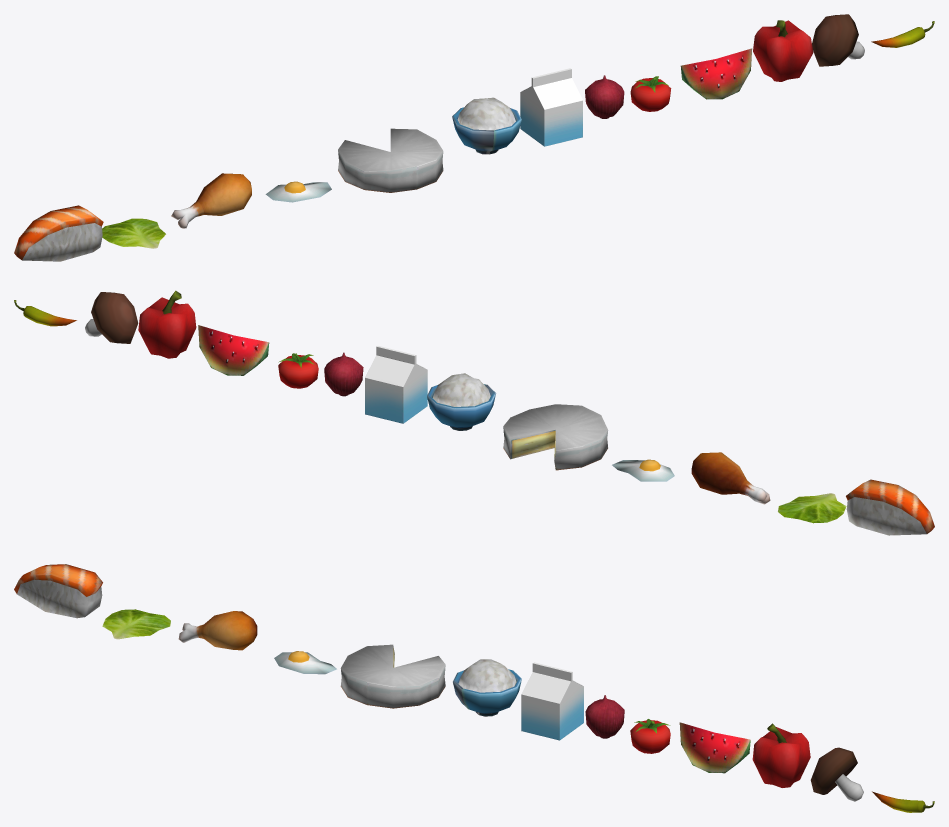
Rendered from healthy_food_prop_pack.glb.
3 views of the same model, one above another, from view 1: azimuth 30°, elevation 25°; view 2: azimuth 150°, elevation 25°; view 3: azimuth 330°, elevation 25° (orthographic).
Parts seen in each view (by area): view 1: Watermelon; view 2: Watermelon; view 3: Watermelon.
Boxes of the visible parts, <box> form: Watermelon: <box>14,14,934,261</box>; Watermelon: <box>14,290,934,535</box>; Watermelon: <box>14,564,934,812</box>.
Bounding box in the file's own units: 20.49 × 1.41 × 1.91.
13 materials, 13 textured.
